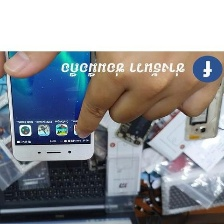phone: (0, 0, 100, 167), (177, 65, 223, 146), (111, 86, 168, 150)
